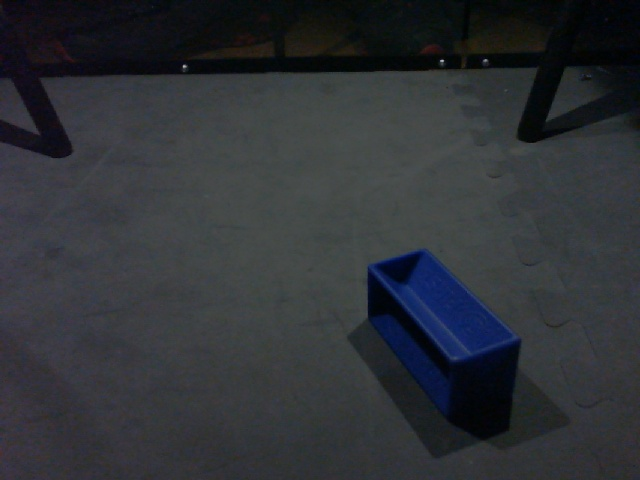BlueSample: (364, 238, 525, 428)
